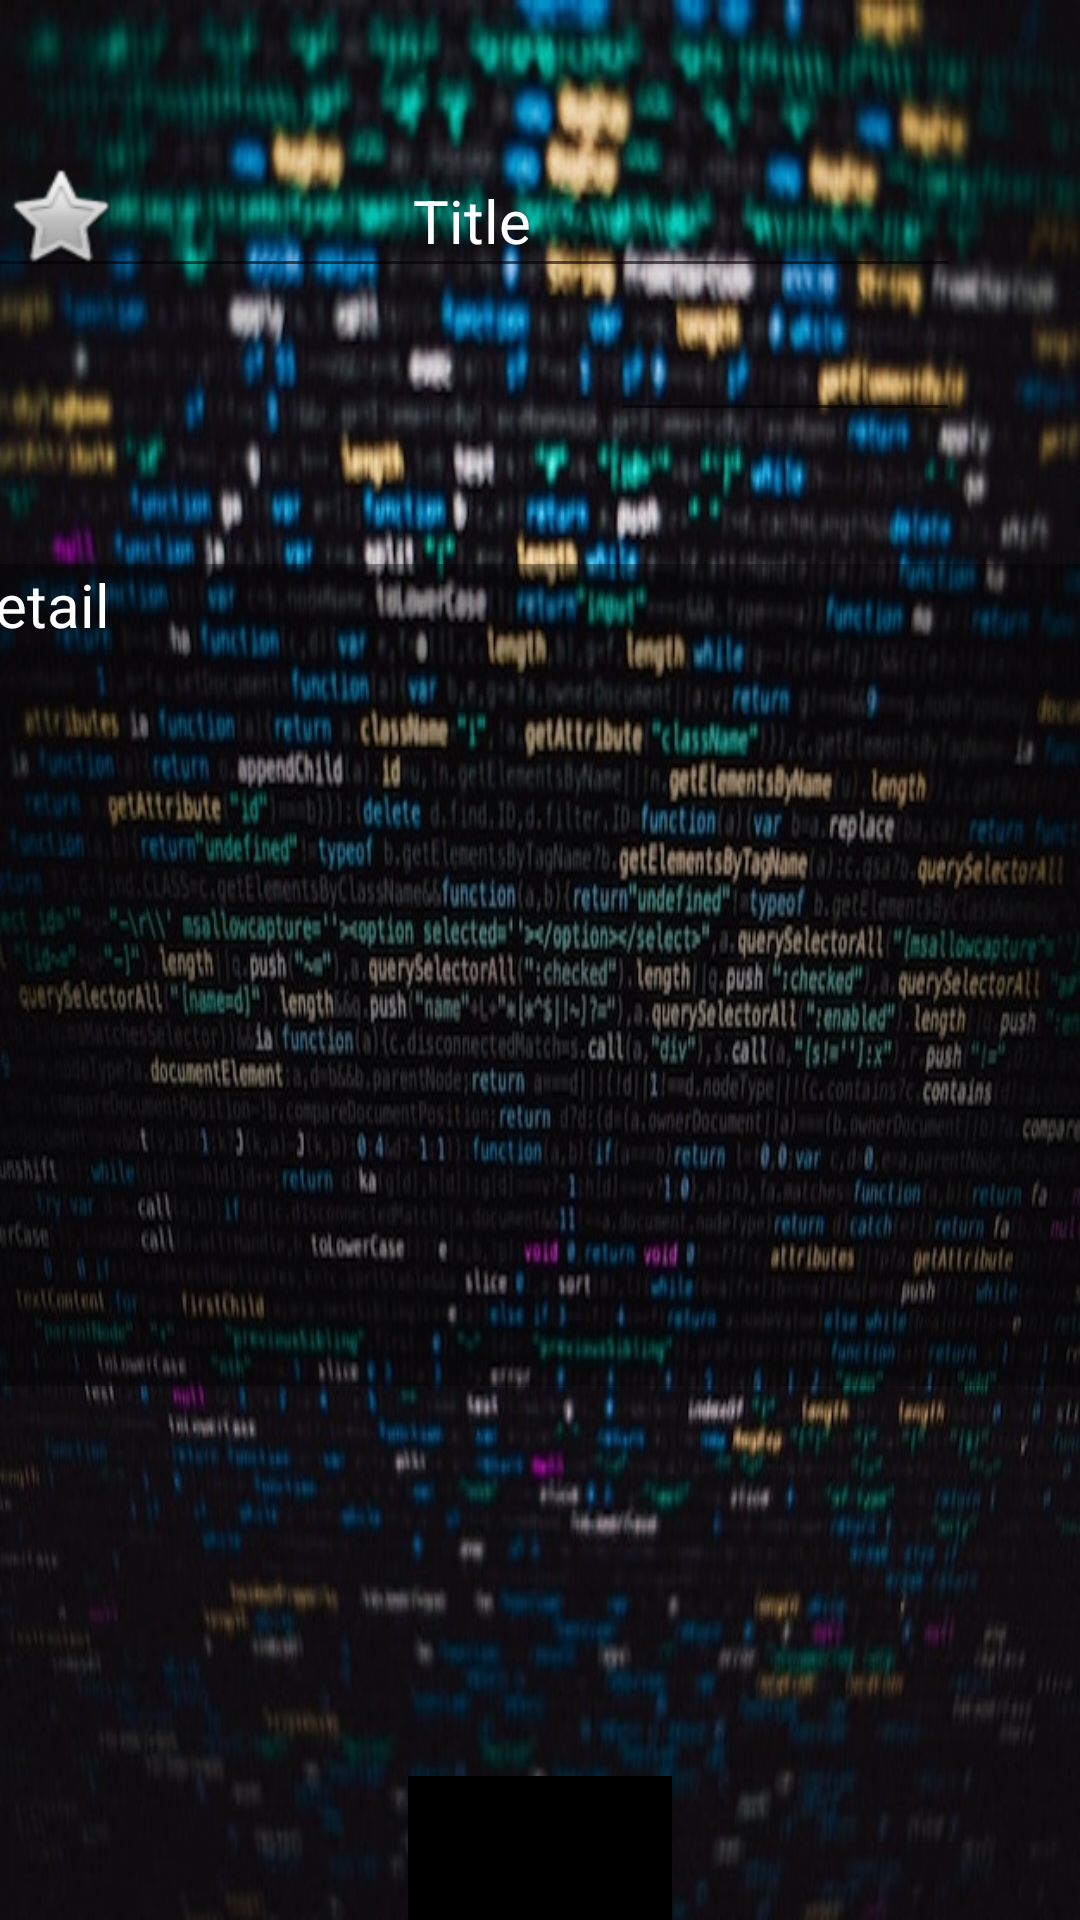

Icons on this 1080 × 1920 Android screen, each with the point to tap as (x,y):
star off: (60,216)
